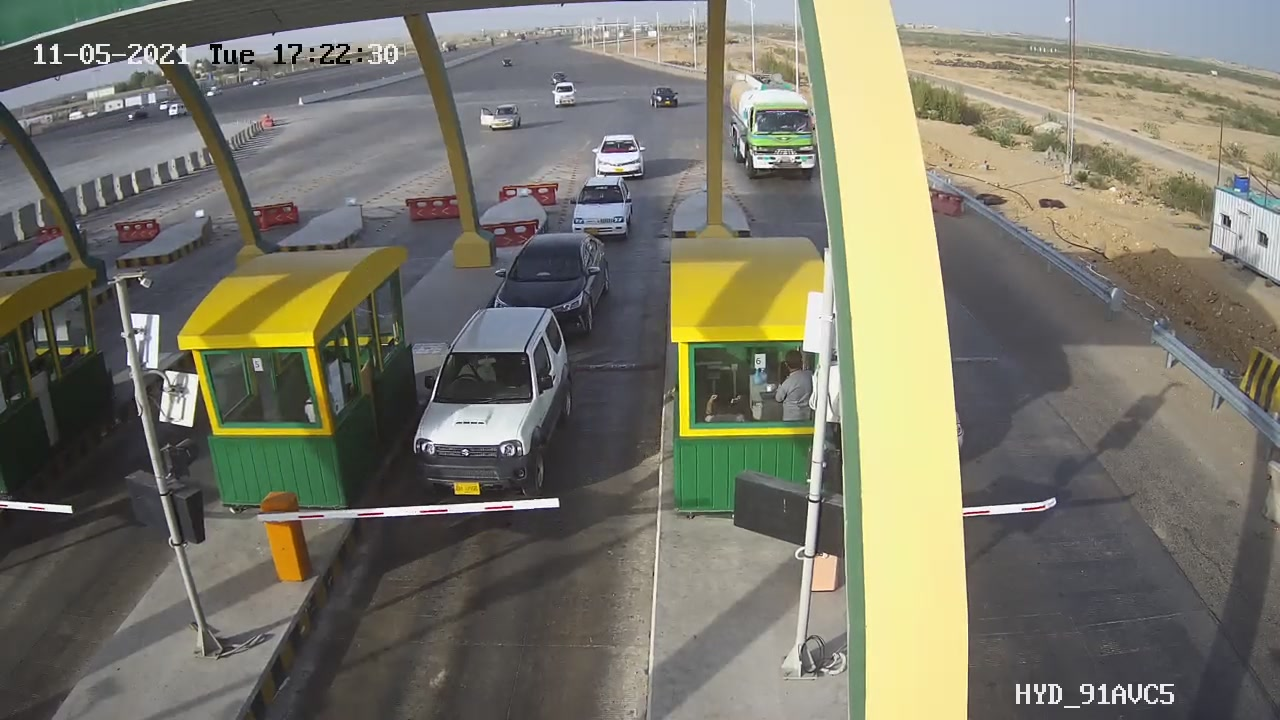F1: (392, 291, 599, 524), (479, 222, 630, 359)
